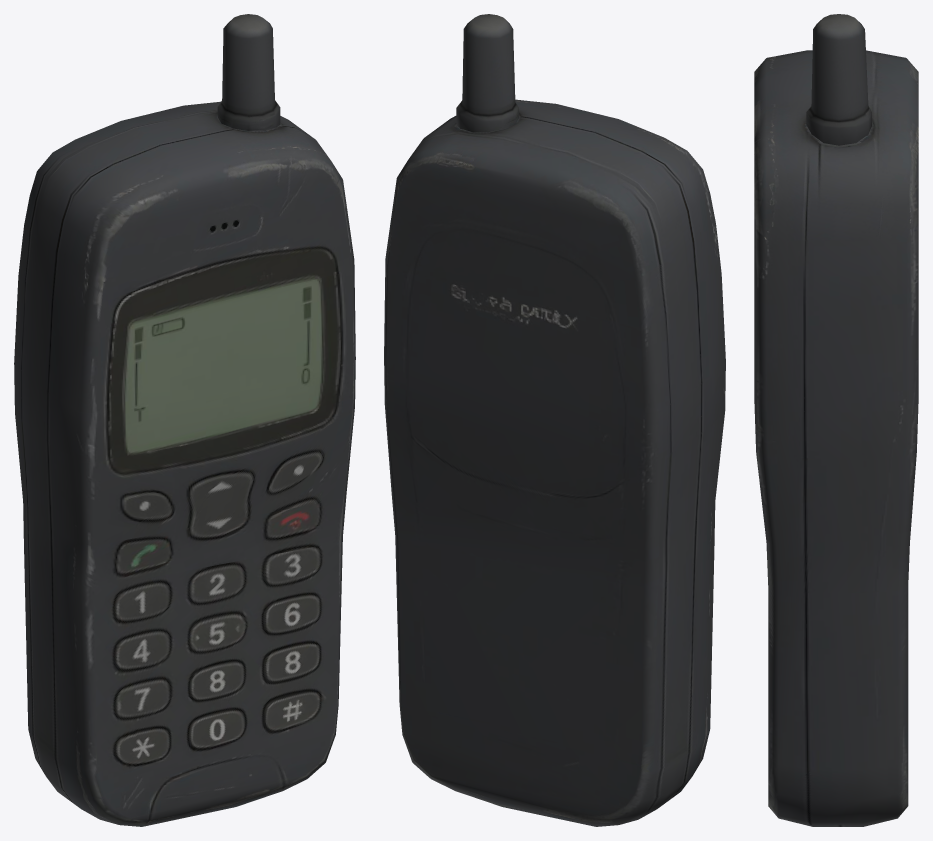
The model's file is Old Dirty Mobile Phone.glb.
3 views of the same model, side by side, from view 1: azimuth 30°, elevation 25°; view 2: azimuth 150°, elevation 25°; view 3: azimuth 270°, elevation 25° (orthographic). The views are drawn at different scales.
Visible parts, largest first — view 1: pb_node; view 2: pb_node; view 3: pb_node.
Boxes of the visible parts, left/top/right/bottom form: pb_node: left=14, top=14, right=355, bottom=826; pb_node: left=384, top=14, right=725, bottom=826; pb_node: left=754, top=14, right=918, bottom=826.
Bounding box in the file's own units: 0.3887 × 0.998 × 0.1855.
Materials: 1 (1 with a texture image).
